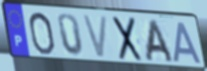0: (57, 13, 85, 59)
A: (145, 18, 176, 64), (173, 20, 204, 65)
O: (27, 11, 57, 56)
V: (80, 14, 110, 60)
X: (112, 15, 144, 63)
